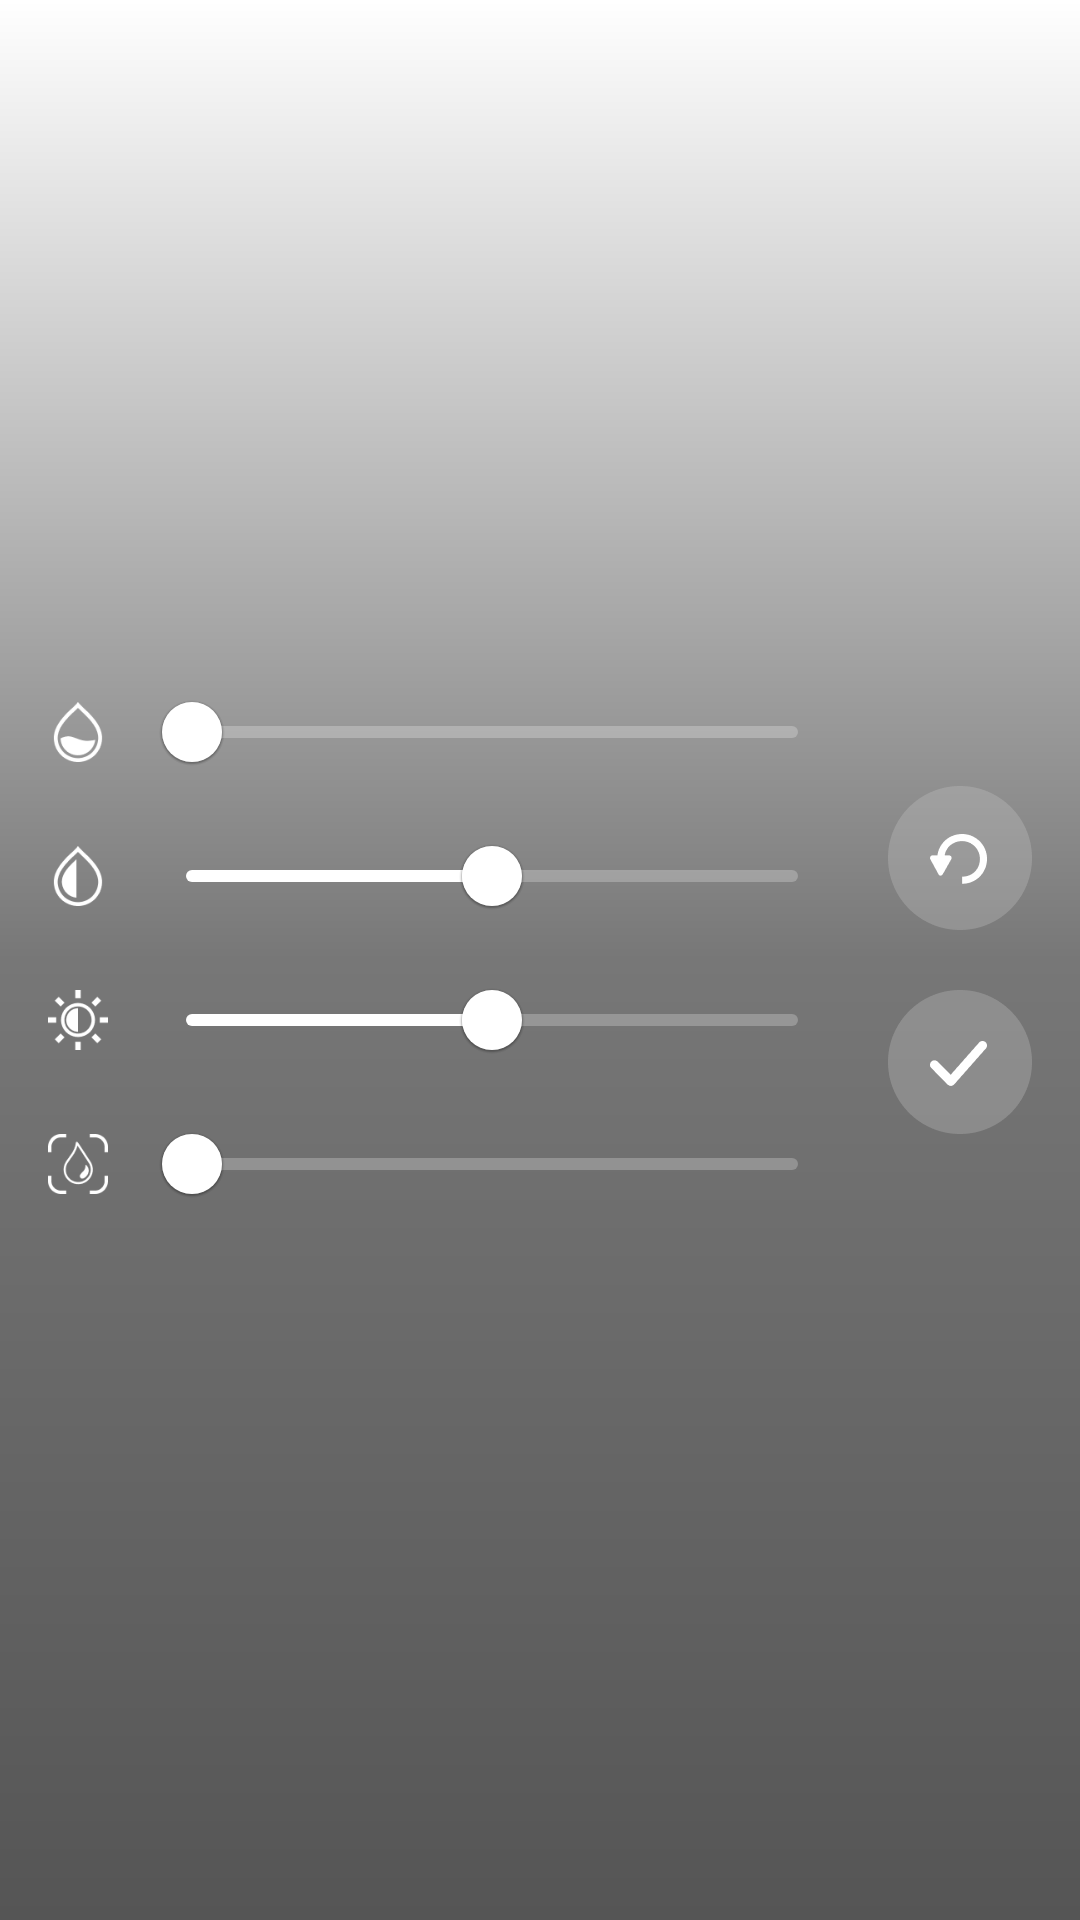

Locate icon controls on the screen. Image size 1080 × 1920, boxes as BBox(x1, y1, x2, y2).
blur filter: BBox(48, 1134, 108, 1194)
done: BBox(888, 990, 1032, 1115)
filter brightness: BBox(48, 990, 108, 1050)
filter tint: BBox(54, 702, 102, 762)
reset: BBox(888, 786, 1032, 914)
